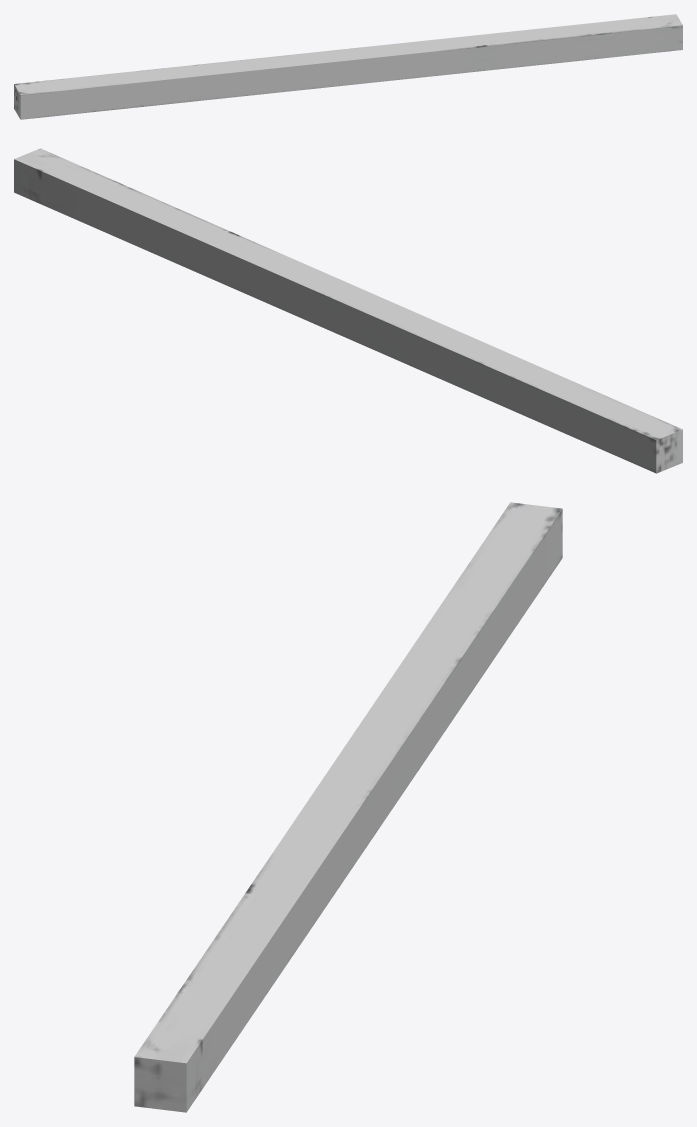
File: frame__back_side_rail_0.glb
The picture shows the model from 3 angles, top to bottom: view 1: azimuth 30°, elevation 25°; view 2: azimuth 150°, elevation 25°; view 3: azimuth 270°, elevation 25°; orthographic projection. The views are drawn at different scales.
Visible parts, largest first — view 1: world; view 2: world; view 3: world.
Boxes of the visible parts, <box> form: world: <box>14,14,682,119</box>; world: <box>14,148,682,473</box>; world: <box>134,502,562,1112</box>.
Bounding box in the file's own units: 0.8294 × 0.034 × 0.2677.
Materials: 1 (1 with a texture image).
